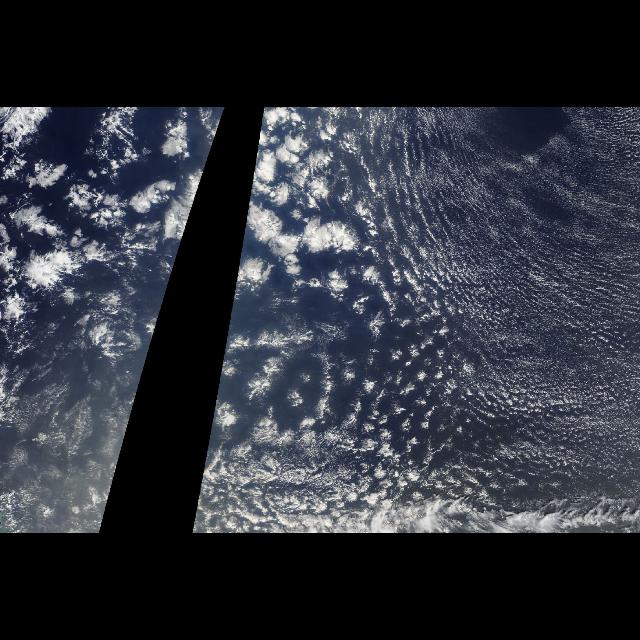Flower: (232, 108, 376, 294), (120, 118, 222, 292)
Sugar: (396, 108, 640, 492), (17, 136, 217, 362), (222, 136, 380, 362)
